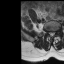CCS_severe_stenosis: (51, 30, 53, 37)
LFS_severe_stenosis: (55, 30, 57, 35)
LLS_stenosis: (53, 31, 55, 35)
RFS_severe_stenosis: (47, 30, 49, 35)
RLS_stenosis: (49, 30, 51, 36)
